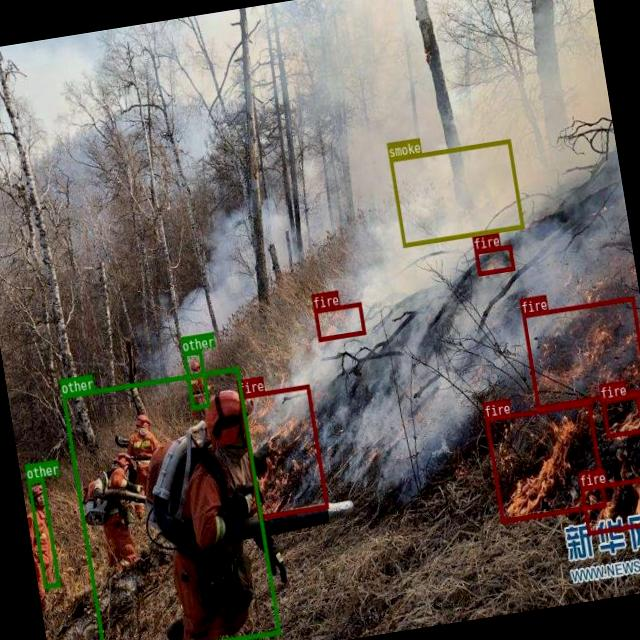fire: (484, 401, 606, 523), (521, 296, 640, 409), (238, 383, 328, 519), (579, 476, 640, 535), (314, 302, 366, 341), (600, 393, 640, 437), (474, 244, 515, 275)
smoke: (388, 138, 524, 247)
